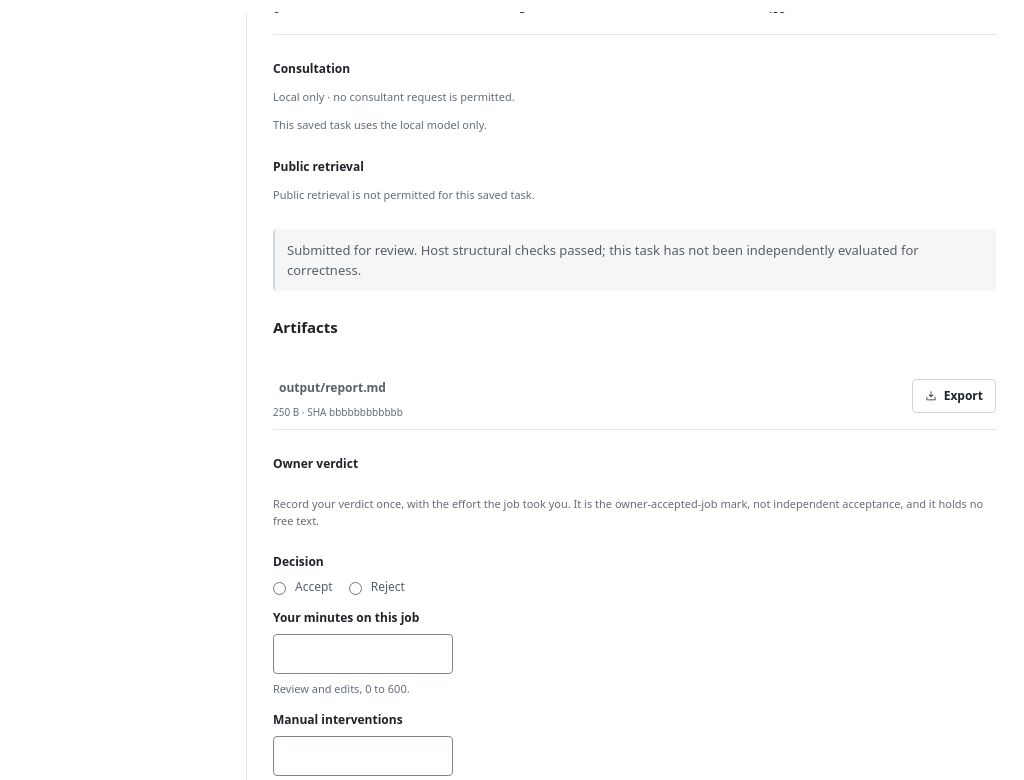
Test case: general task workspace › keeps submitted work distinct from independent acceptance and exports the exact artifact reference
The image size is (1024, 780).
(page scrolled)
Expected: the text "has not been independently evaluated for correctness" is shown, [287,240,919,279]
Expected: the element named "Approved public sources" shows "Public retrieval is not permitted", [273,187,535,202]
Click the button with aria-label "Export output/report.md".
click(954, 396)  # box [912,379,996,413]
(page scrolled)
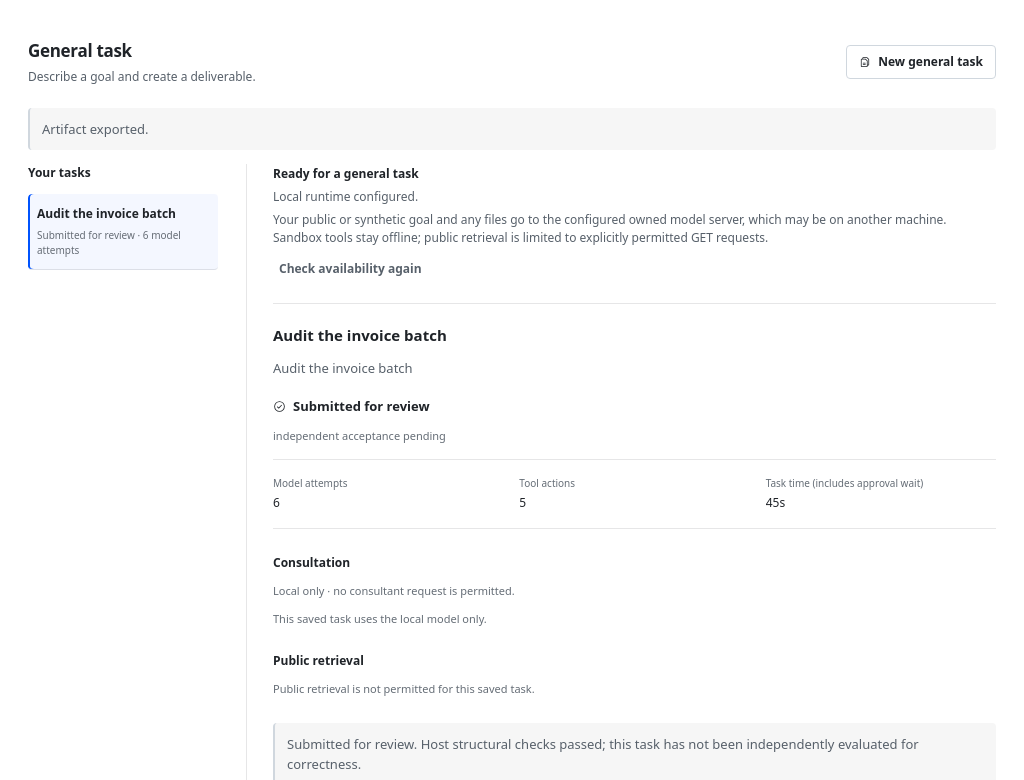
Result: the text "Artifact exported." is shown at [28,108,996,150]
